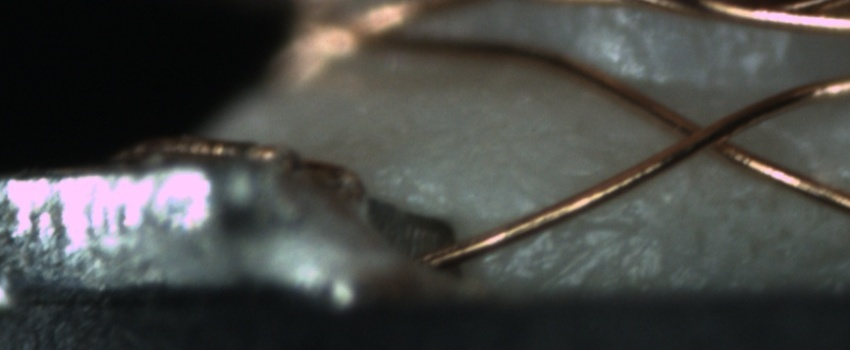CL: (659, 103, 755, 162)
DL: (501, 191, 643, 251)
TE: (116, 128, 373, 203)
